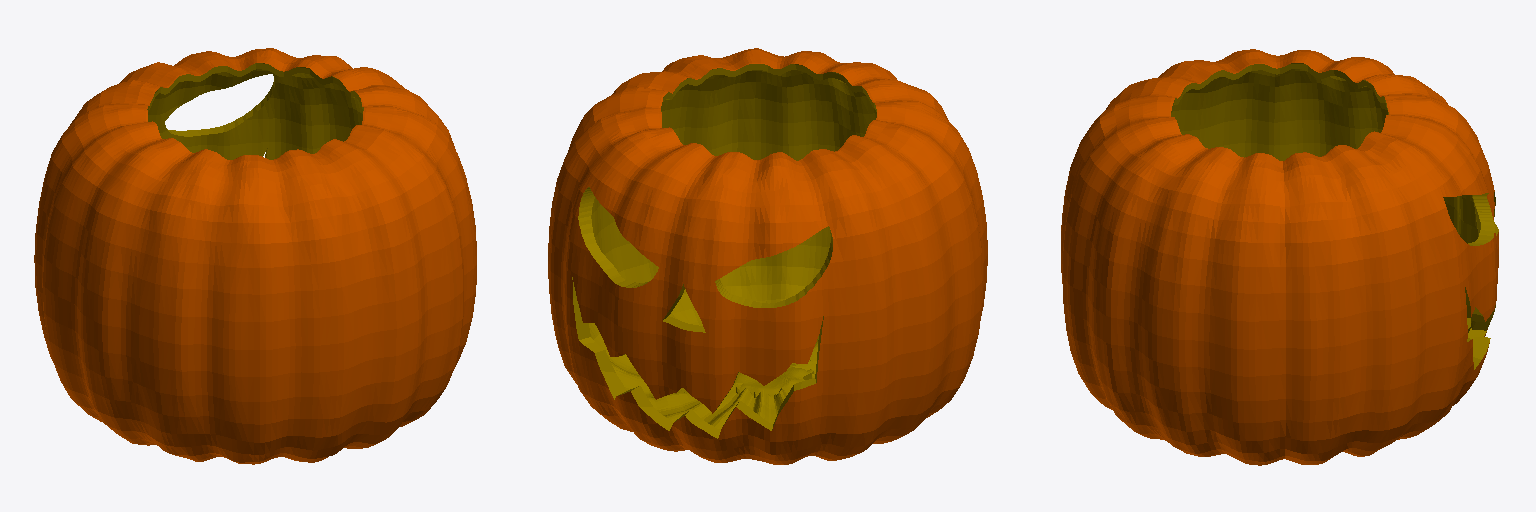
File: Calabaza1.obj
3 renders of one model, left to right at view 1: azimuth 30°, elevation 25°; view 2: azimuth 150°, elevation 25°; view 3: azimuth 270°, elevation 25°, orthographic.
Visible parts, largest first — view 1: Connect.001_Untitled.002; view 2: Connect.001_Untitled.002; view 3: Connect.001_Untitled.002.
Boxes of the visible parts, x1=… form: Connect.001_Untitled.002: x1=34, y1=48, x2=476, y2=464; Connect.001_Untitled.002: x1=548, y1=48, x2=987, y2=464; Connect.001_Untitled.002: x1=1061, y1=49, x2=1498, y2=465.
Size of the model in its own units: 3.9 by 2.94 by 3.91.